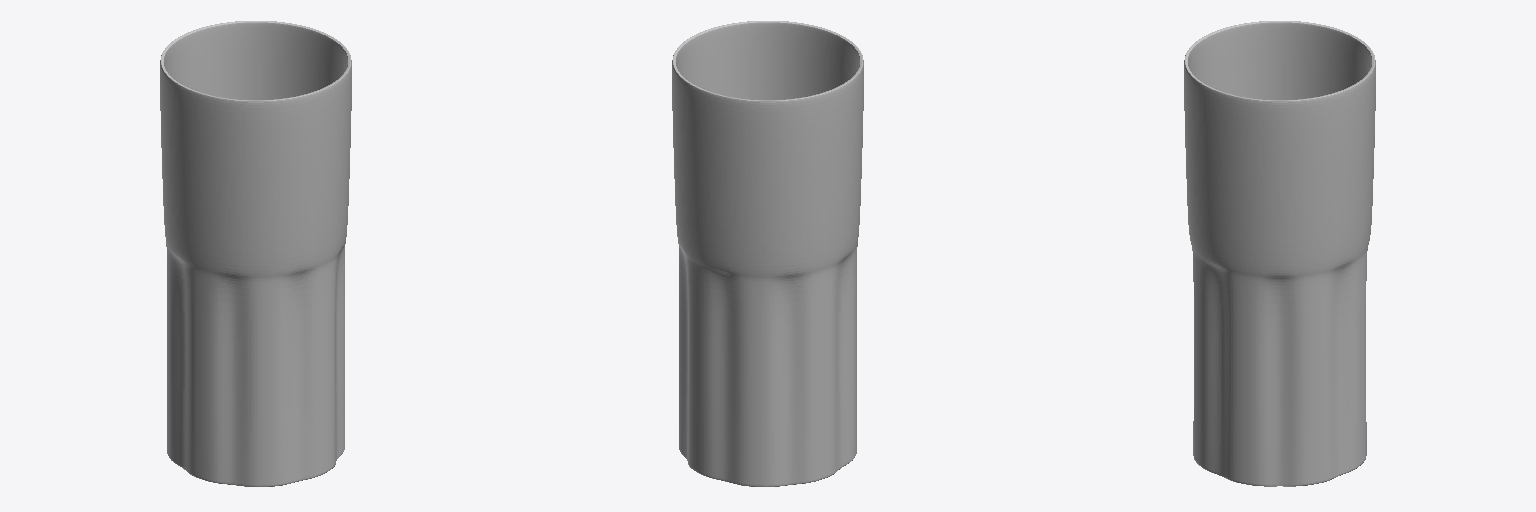
The model's file is Tall_Mug.obj.
The picture shows the model from 3 angles: view 1: azimuth 30°, elevation 25°; view 2: azimuth 150°, elevation 25°; view 3: azimuth 270°, elevation 25°; orthographic projection.
Visible parts, largest first — view 1: Tall_Mug_Circle.007; view 2: Tall_Mug_Circle.007; view 3: Tall_Mug_Circle.007.
Boxes of the visible parts, box(x1,y1,x2,y2) form: Tall_Mug_Circle.007: box(160, 21, 351, 486); Tall_Mug_Circle.007: box(672, 21, 863, 486); Tall_Mug_Circle.007: box(1184, 21, 1375, 486).
Bounding box in the file's own units: 0.1646 × 0.3691 × 0.1646.